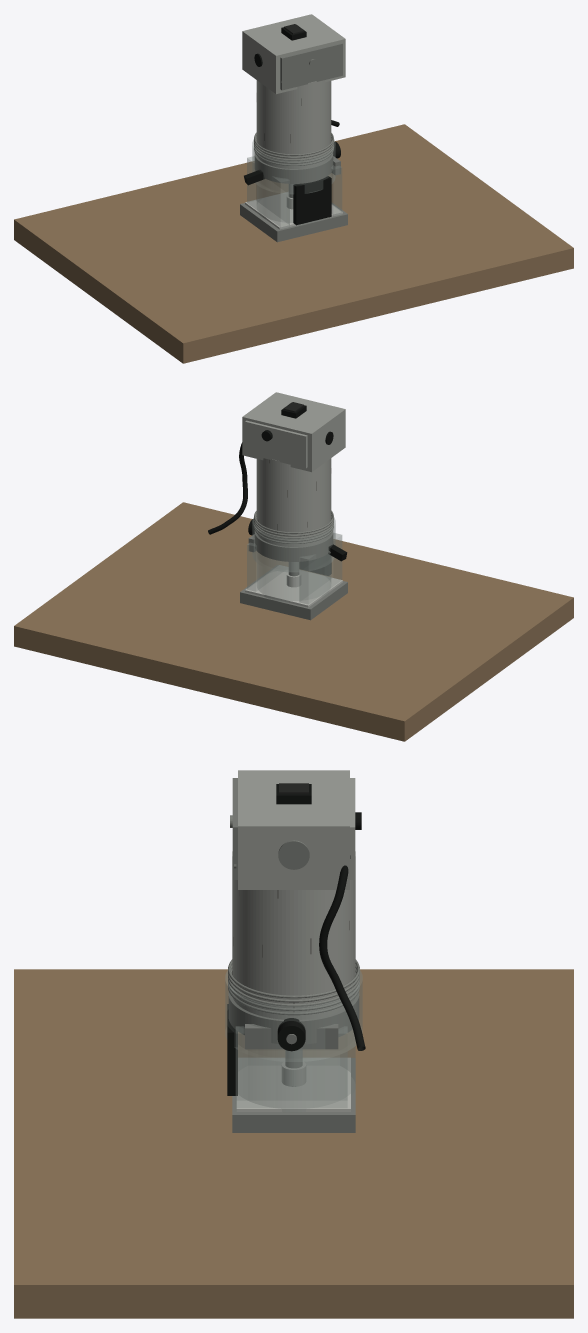
File: trimer.glb
3 renders of one model, top to bottom at view 1: azimuth 30°, elevation 25°; view 2: azimuth 150°, elevation 25°; view 3: azimuth 270°, elevation 25°, orthographic. The views are drawn at different scales.
Parts seen in each view (by area): view 1: Workbench, Main Motor Housing, Top Motor Head, Transparent Upper Collar, Front Head Plate, Left Guard Pillar, Clear Guard Front Opening, Base Plate, Lower Motor Collar, Base Plate Top, Transparent Lower Guard, Right Guard Pillar; view 2: Workbench, Main Motor Housing, Top Motor Head, Transparent Upper Collar, Transparent Lower Guard, Base Plate Top, Rear Head Plate, Left Guard Pillar, Base Plate, Lower Motor Collar, Right Guard Pillar, Power Cable (+1 smaller); view 3: Workbench, Main Motor Housing, Top Motor Head, Right Guard Pillar, Transparent Upper Collar, Transparent Lower Guard, Base Plate Top, Base Plate, Lower Motor Collar, Power Cable, Depth Adjustment Rail, Clear Guard Front Opening (+2 smaller).
Part boxes in pixels (box(x1,y1,x2,y2)): Workbench: box(14, 124, 573, 363); Main Motor Housing: box(256, 80, 331, 168); Top Motor Head: box(242, 14, 345, 94); Transparent Upper Collar: box(252, 139, 335, 194); Front Head Plate: box(280, 42, 342, 90); Left Guard Pillar: box(247, 156, 289, 228); Clear Guard Front Opening: box(293, 176, 331, 225); Base Plate: box(240, 203, 347, 242); Lower Motor Collar: box(254, 152, 333, 183); Base Plate Top: box(245, 192, 342, 229); Transparent Lower Guard: box(257, 174, 330, 224); Right Guard Pillar: box(329, 165, 342, 216); Workbench: box(14, 502, 573, 741); Main Motor Housing: box(256, 458, 331, 546); Top Motor Head: box(242, 392, 345, 472); Transparent Upper Collar: box(252, 517, 335, 572); Transparent Lower Guard: box(257, 552, 330, 602); Base Plate Top: box(245, 565, 342, 607); Rear Head Plate: box(245, 420, 307, 468); Left Guard Pillar: box(299, 533, 342, 604); Base Plate: box(240, 565, 347, 620); Lower Motor Collar: box(254, 530, 333, 561); Right Guard Pillar: box(247, 543, 281, 591); Power Cable: box(208, 442, 247, 534); Workbench: box(14, 969, 573, 1318); Main Motor Housing: box(232, 851, 355, 1019); Top Motor Head: box(238, 770, 349, 889); Right Guard Pillar: box(235, 1026, 347, 1110); Transparent Upper Collar: box(225, 970, 362, 1061); Transparent Lower Guard: box(238, 1029, 355, 1112); Base Plate Top: box(236, 1057, 350, 1111); Base Plate: box(232, 1058, 355, 1132); Lower Motor Collar: box(228, 992, 359, 1044); Power Cable: box(319, 855, 365, 1050); Depth Adjustment Rail: box(245, 1024, 338, 1049); Clear Guard Front Opening: box(227, 1004, 237, 1095).
Bounding box in the file's own units: 6.4 × 3.53 × 4.8.
